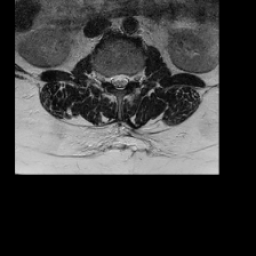CCS_normal: (116, 67, 123, 95)
LFS_normal: (129, 66, 136, 88)
LLS_normal: (123, 66, 129, 92)
RFS_normal: (104, 67, 110, 89)
RLS_normal: (110, 67, 116, 91)
